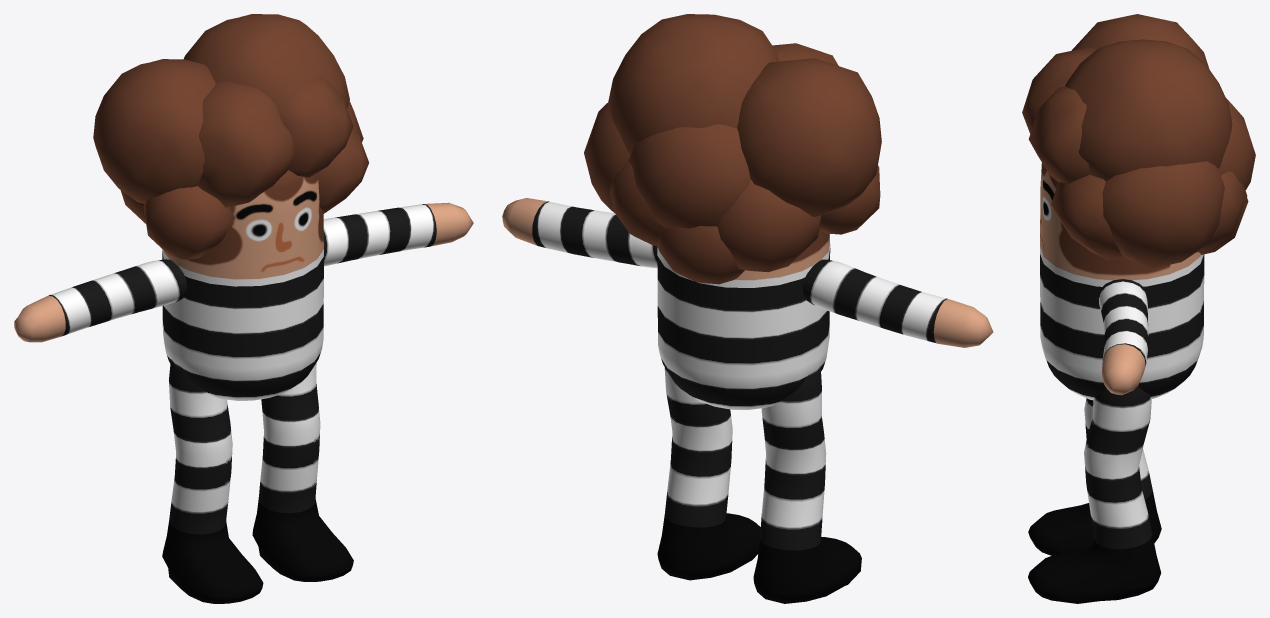
File: SK_Prisoner_04.fbx
3 renders of one model, left to right at view 1: azimuth 30°, elevation 25°; view 2: azimuth 150°, elevation 25°; view 3: azimuth 270°, elevation 25°, orthographic. The views are drawn at different scales.
Visible parts, largest first — view 1: SK_Prisoner_04; view 2: SK_Prisoner_04; view 3: SK_Prisoner_04.
Part boxes in pixels (x1=…): SK_Prisoner_04: x1=14, y1=14, x2=473, y2=603; SK_Prisoner_04: x1=502, y1=14, x2=993, y2=603; SK_Prisoner_04: x1=1022, y1=14, x2=1255, y2=603.
Size of the model in its own units: 308 by 339 by 135.
